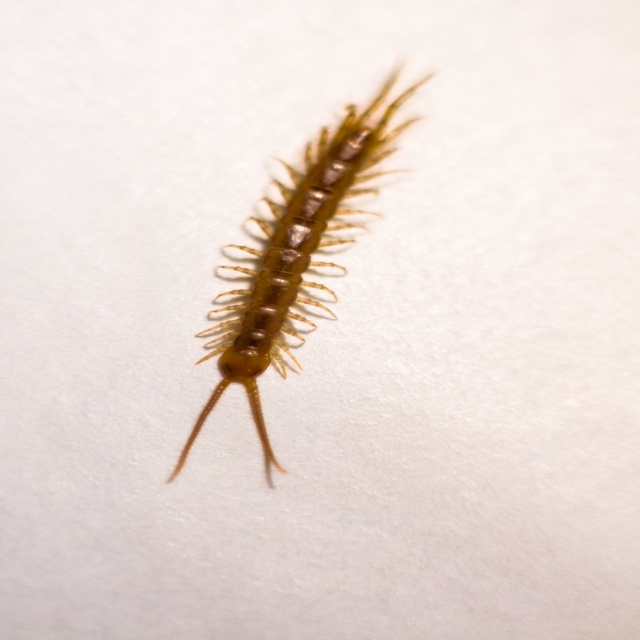Centipede: (148, 58, 441, 493)
